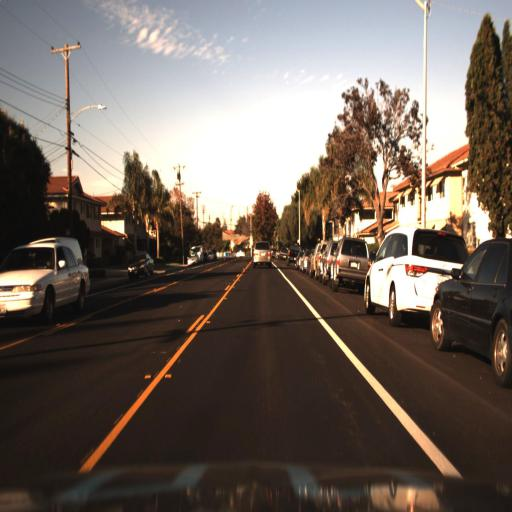car: (430, 238, 512, 390), (362, 224, 468, 316), (0, 241, 93, 332), (355, 218, 429, 332), (333, 230, 372, 288), (330, 234, 365, 298), (124, 247, 156, 282), (124, 249, 155, 281), (252, 236, 275, 273), (320, 237, 335, 283), (308, 237, 324, 278), (182, 252, 199, 271)
